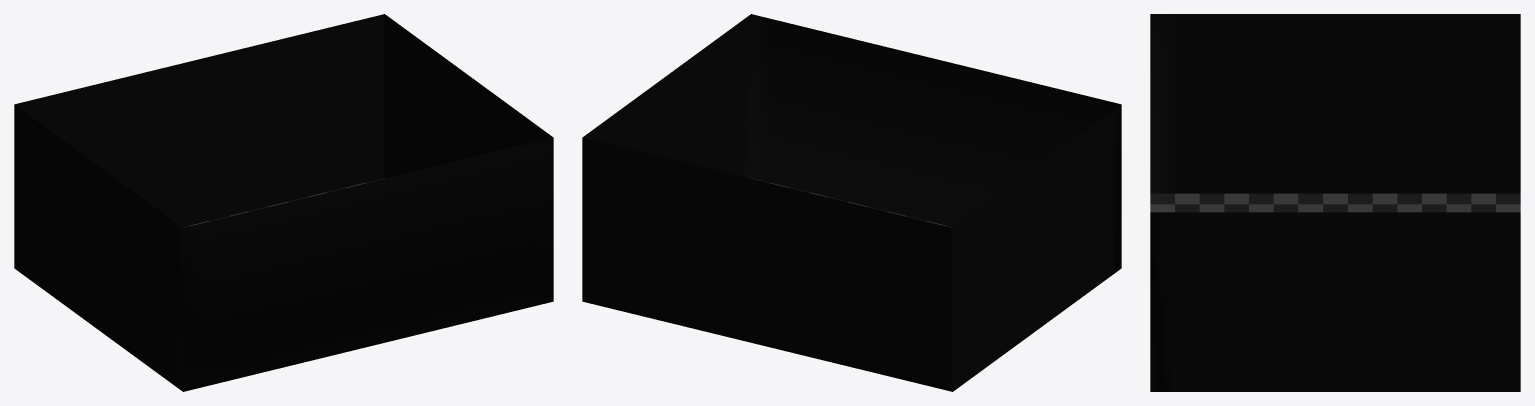
Rendered from CharacterCustomizationRoom.fbx.
The picture shows the model from 3 angles, left to right: view 1: azimuth 30°, elevation 25°; view 2: azimuth 150°, elevation 25°; view 3: azimuth 270°, elevation 25°; orthographic projection. The views are drawn at different scales.
Parts seen in each view (by area): view 1: CharacterCustomizationRoom; view 2: CharacterCustomizationRoom; view 3: CharacterCustomizationRoom.
Part boxes in pixels (<box>): CharacterCustomizationRoom: <box>14,14,553,391</box>; CharacterCustomizationRoom: <box>582,14,1121,391</box>; CharacterCustomizationRoom: <box>1150,14,1520,391</box>.
Size of the model in its own units: 19 by 8.04 by 15.
